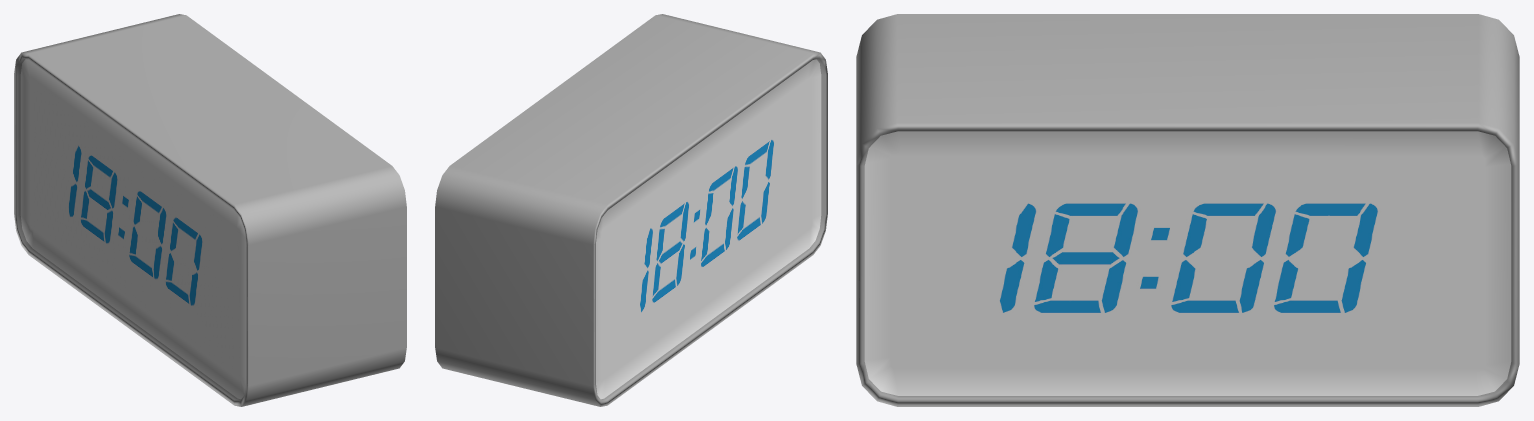
File: clock.fbx
3 renders of one model, left to right at view 1: azimuth 30°, elevation 25°; view 2: azimuth 150°, elevation 25°; view 3: azimuth 270°, elevation 25°, orthographic. The views are drawn at different scales.
Visible parts, largest first — view 1: pCube1; view 2: pCube1; view 3: pCube1.
Part boxes in pixels (x1,y1,x2,y2): pCube1: (14,14,406,406); pCube1: (435,14,827,406); pCube1: (856,14,1519,406).
Size of the model in its own units: 1.58 by 1.93 by 4.08.
Materials: 1 (1 with a texture image).
